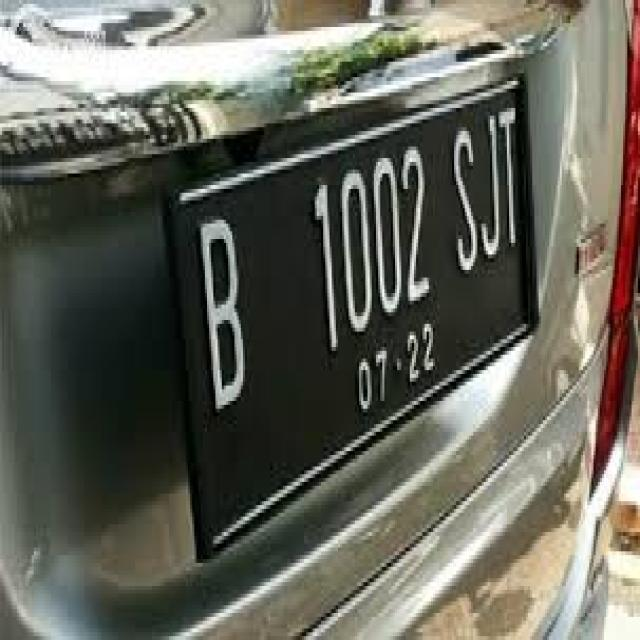license-plat: (159, 68, 543, 550)
